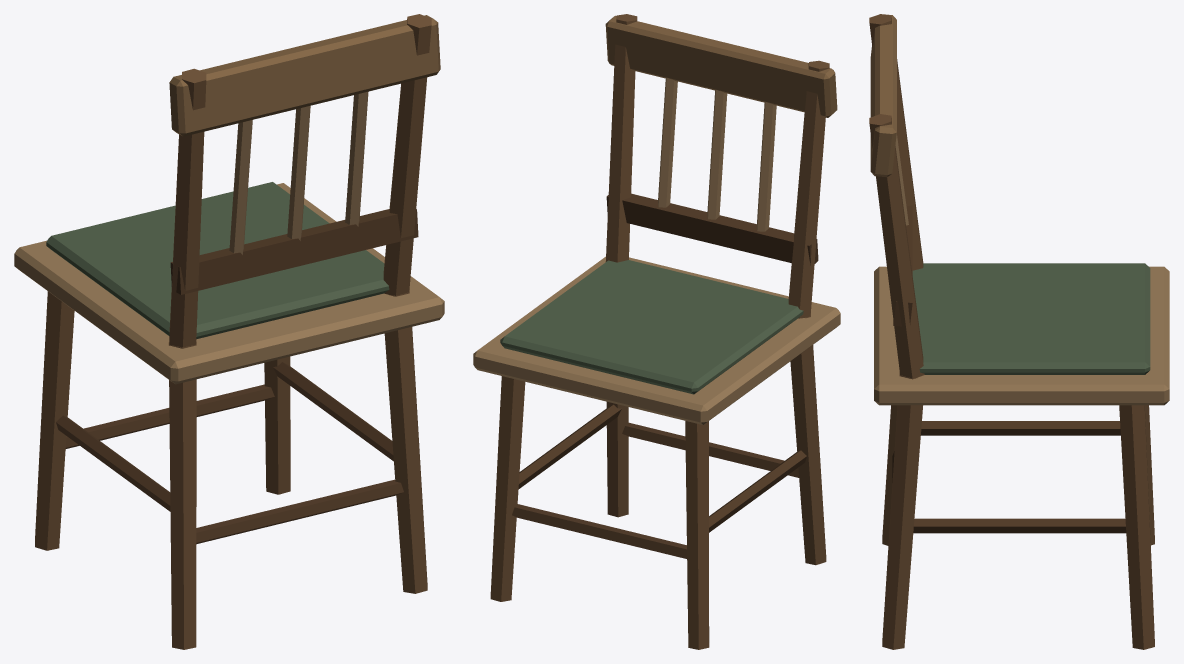
The model's file is prop_chair.glb.
3 renders of one model, left to right at view 1: azimuth 30°, elevation 25°; view 2: azimuth 150°, elevation 25°; view 3: azimuth 270°, elevation 25°, orthographic. The views are drawn at different scales.
Visible parts, largest first — view 1: prop_chair; view 2: prop_chair; view 3: prop_chair.
Part boxes in pixels (x1,y1,x2,y2): prop_chair: (14,14,444,649); prop_chair: (473,14,840,649); prop_chair: (869,14,1169,649).
Size of the model in its own units: 0.45 by 0.9036 by 0.4672.
